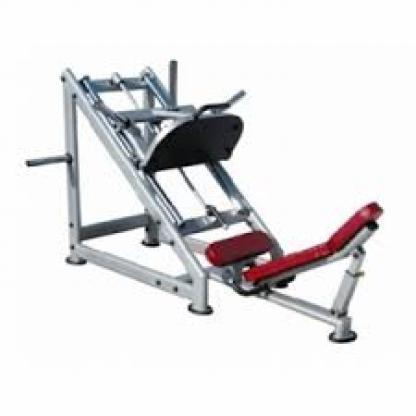leg press: (20, 53, 382, 360)
